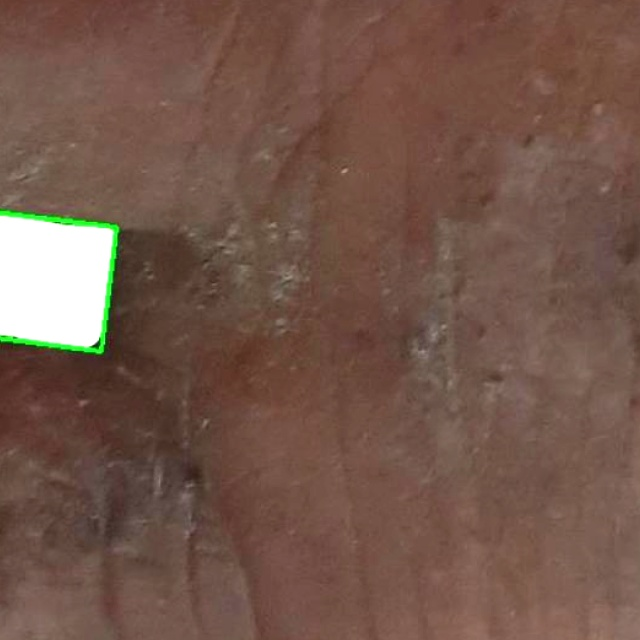Eczema: (0, 211, 118, 350)
